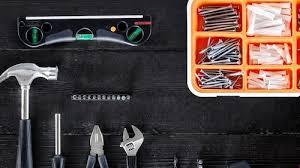wrench: (118, 123, 145, 167)
